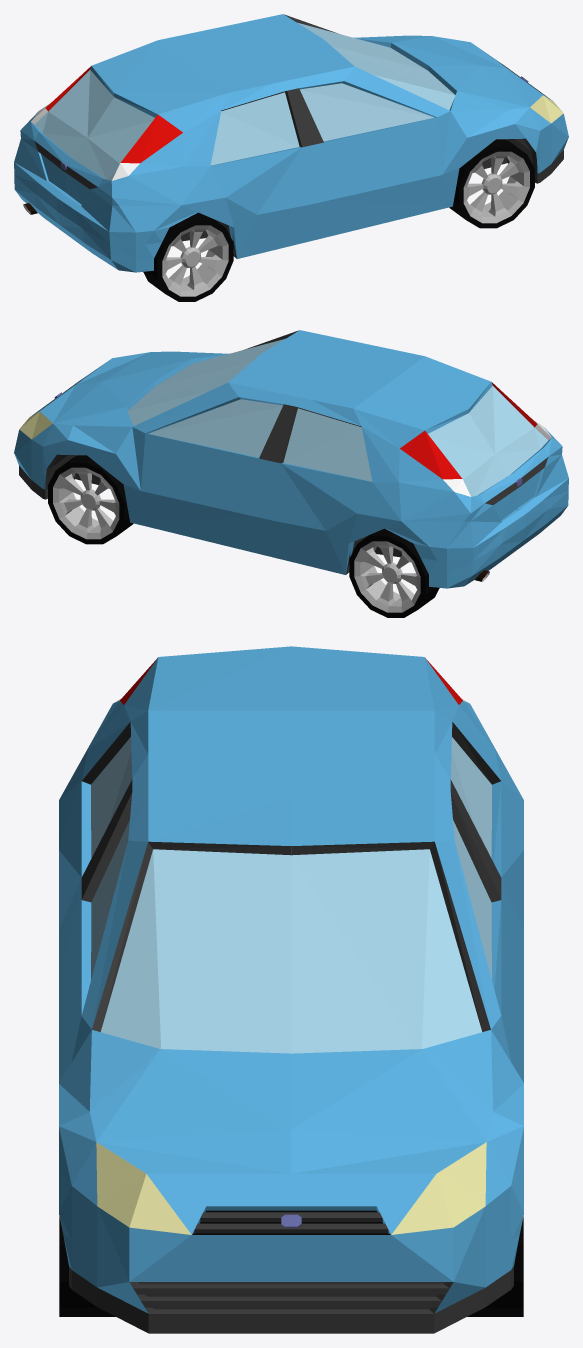
The model's file is Ford_Focus.fbx.
The picture shows the model from 3 angles, top to bottom: view 1: azimuth 30°, elevation 25°; view 2: azimuth 150°, elevation 25°; view 3: azimuth 270°, elevation 25°; orthographic projection. The views are drawn at different scales.
Visible parts, largest first — view 1: Body, WheelR, WheelFR; view 2: Body, WheelR, WheelFL; view 3: Body, WheelFL, WheelFR.
Boxes of the visible parts, left/top/right/bottom form: Body: left=14, top=14, right=568, bottom=272; WheelR: left=143, top=212, right=233, bottom=301; WheelFR: left=449, top=139, right=534, bottom=228; Body: left=14, top=330, right=568, bottom=588; WheelR: left=349, top=528, right=439, bottom=617; WheelFL: left=48, top=455, right=133, bottom=544; Body: left=59, top=646, right=523, bottom=1333; WheelFL: left=467, top=1217, right=523, bottom=1316; WheelFR: left=59, top=1217, right=115, bottom=1316.
Size of the model in its own units: 429 by 156 by 183.
